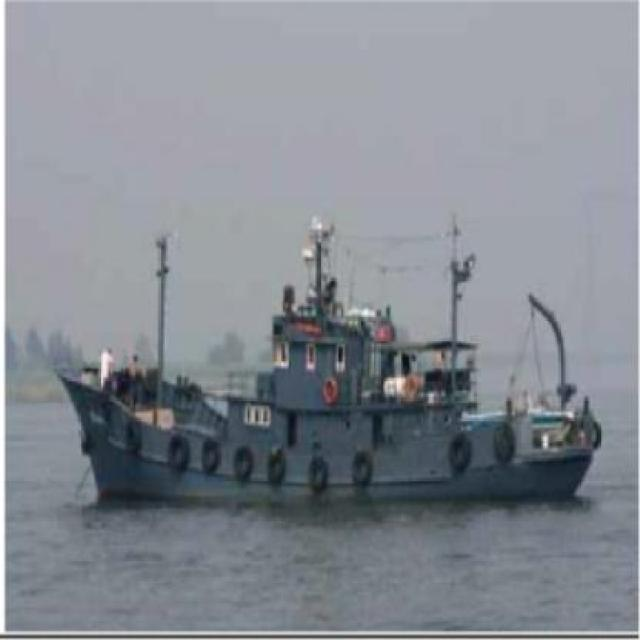fish-b: (50, 195, 615, 521)
